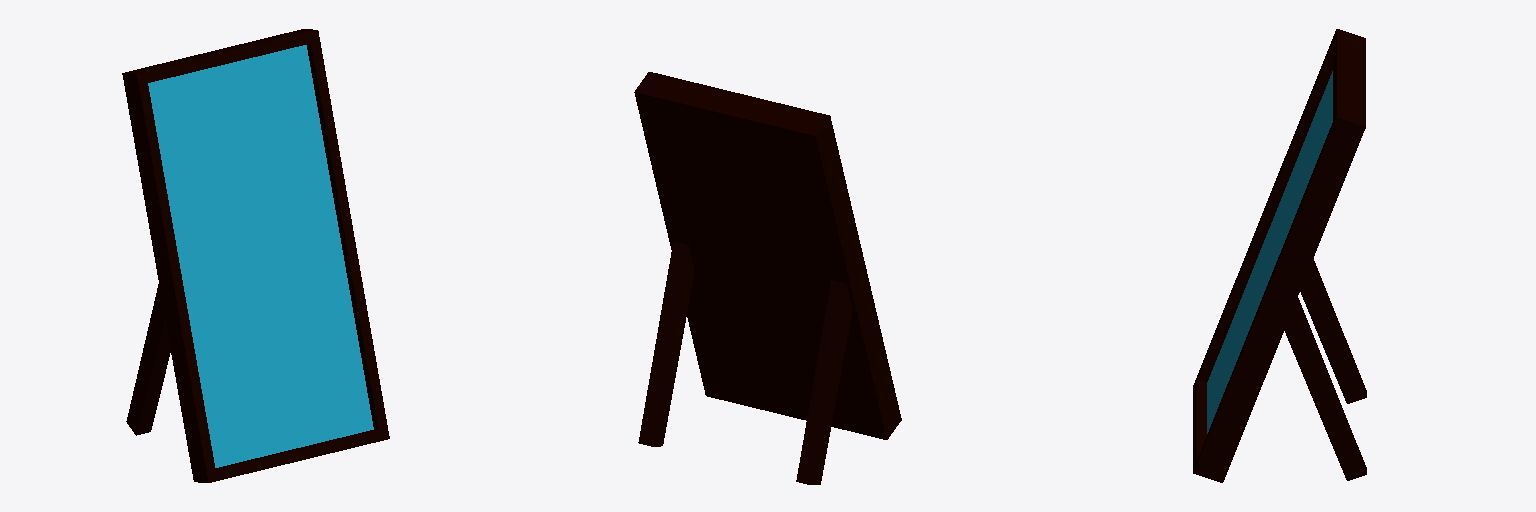
Rendered from mirror.obj.
3 views of the same model, side by side, from view 1: azimuth 30°, elevation 25°; view 2: azimuth 150°, elevation 25°; view 3: azimuth 270°, elevation 25° (orthographic).
Parts seen in each view (by area): view 1: Cube; view 2: Cube; view 3: Cube.
Boxes of the visible parts, <box> form: Cube: <box>122,29,389,482</box>; Cube: <box>634,72,901,484</box>; Cube: <box>1193,29,1366,482</box>.
Bounding box in the file's own units: 1.03 × 1.99 × 0.8531.